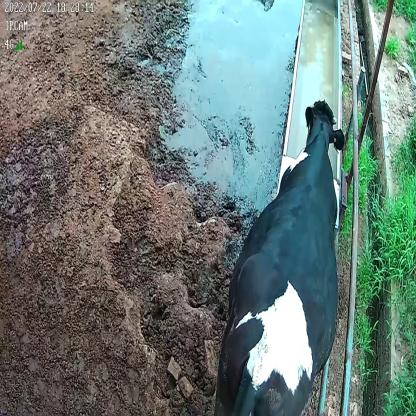cow: (213, 95, 346, 416)
